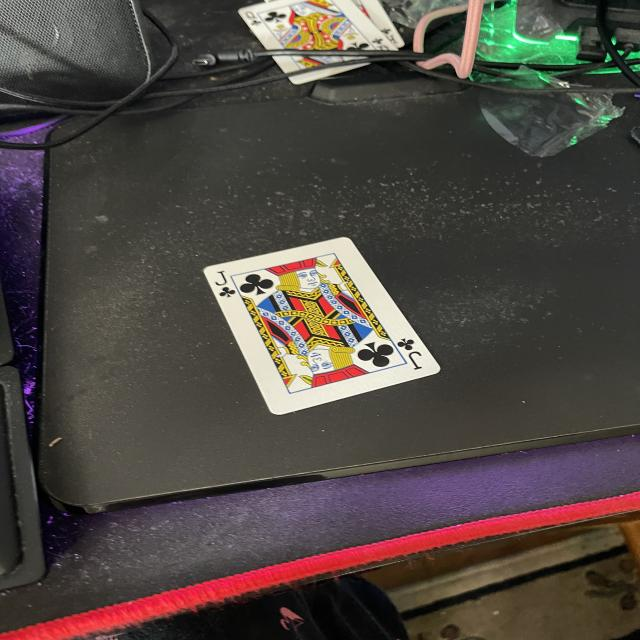Jack of clubs: (201, 229, 443, 432)
